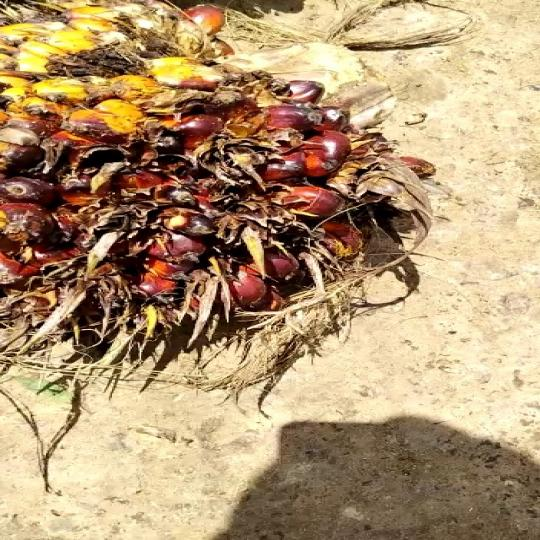terlalu masak: (0, 0, 454, 409)
